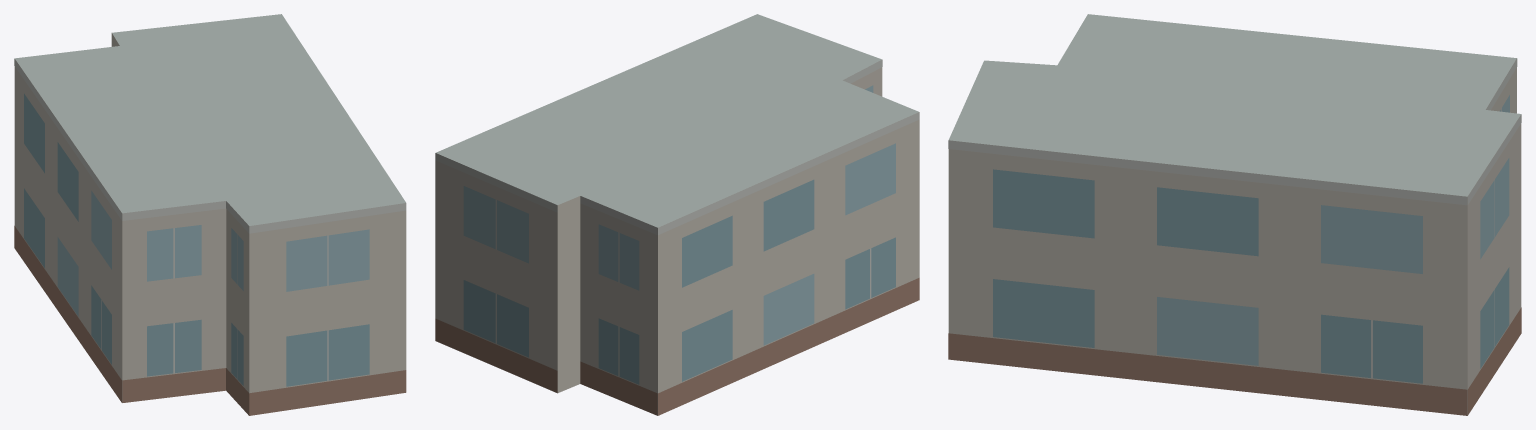
The model's file is survey-upis-32820245.glb.
The picture shows the model from 3 angles, left to right: view 1: azimuth 30°, elevation 25°; view 2: azimuth 150°, elevation 25°; view 3: azimuth 270°, elevation 25°; orthographic projection. The views are drawn at different scales.
Visible parts, largest first — view 1: survey-upis-32820245.tmp; view 2: survey-upis-32820245.tmp; view 3: survey-upis-32820245.tmp.
Part boxes in pixels (x1,y1,x2,y2): survey-upis-32820245.tmp: (14,14,406,415); survey-upis-32820245.tmp: (435,14,919,415); survey-upis-32820245.tmp: (948,14,1521,415).
Size of the model in its own units: 10.91 by 6.1 by 14.46.
